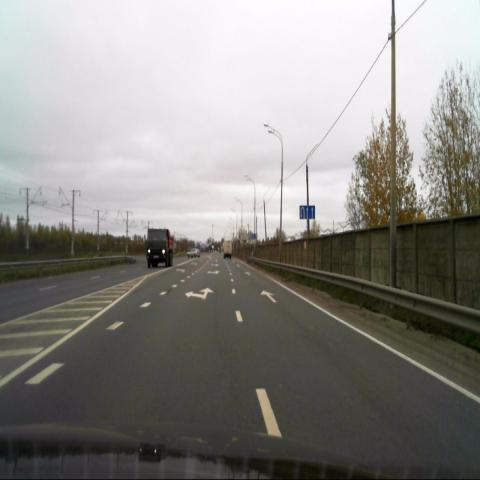5_15_1: (299, 205, 315, 219)
